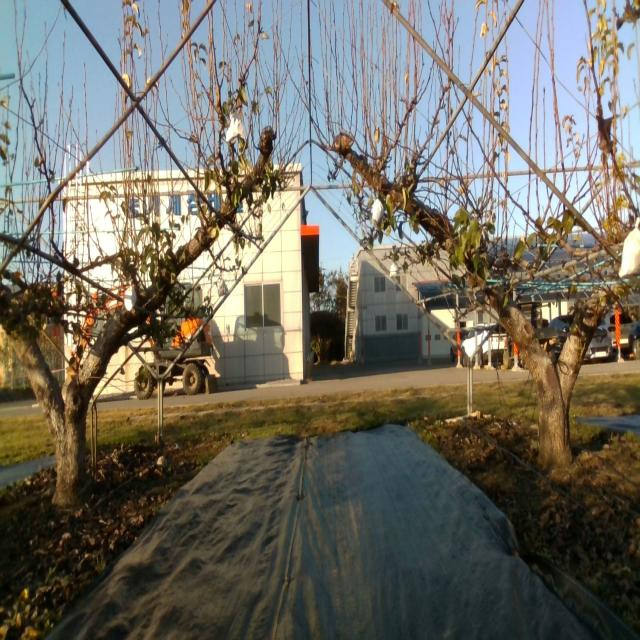pearbags: (617, 216, 640, 279), (224, 112, 247, 143), (124, 281, 137, 311), (371, 198, 385, 225), (218, 276, 228, 297)
